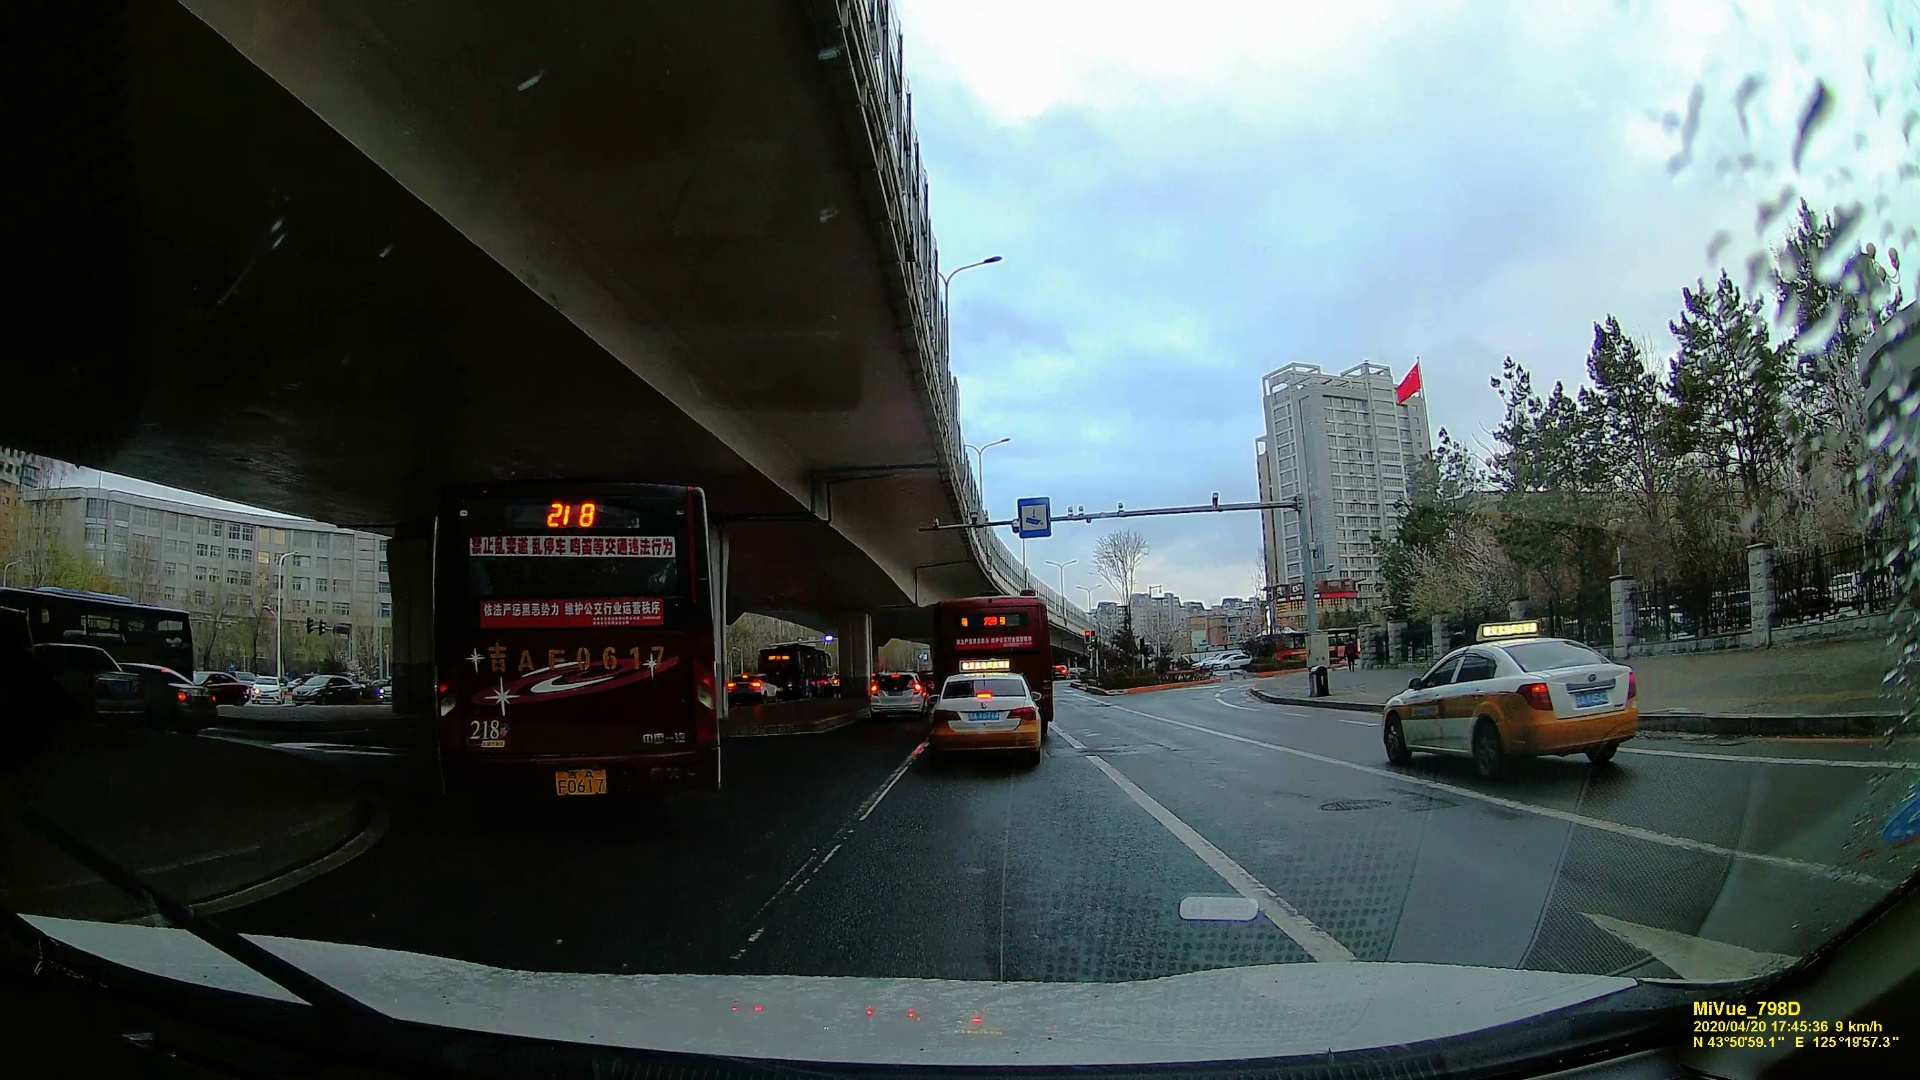bus: (432, 475, 716, 810), (929, 602, 1051, 720), (765, 644, 825, 688)
person: (1342, 634, 1358, 674)
traffic_sign: (1016, 495, 1052, 535), (1083, 629, 1092, 644)
vehicle: (1378, 633, 1649, 777), (925, 669, 1044, 767), (871, 670, 928, 719), (724, 675, 766, 702)
